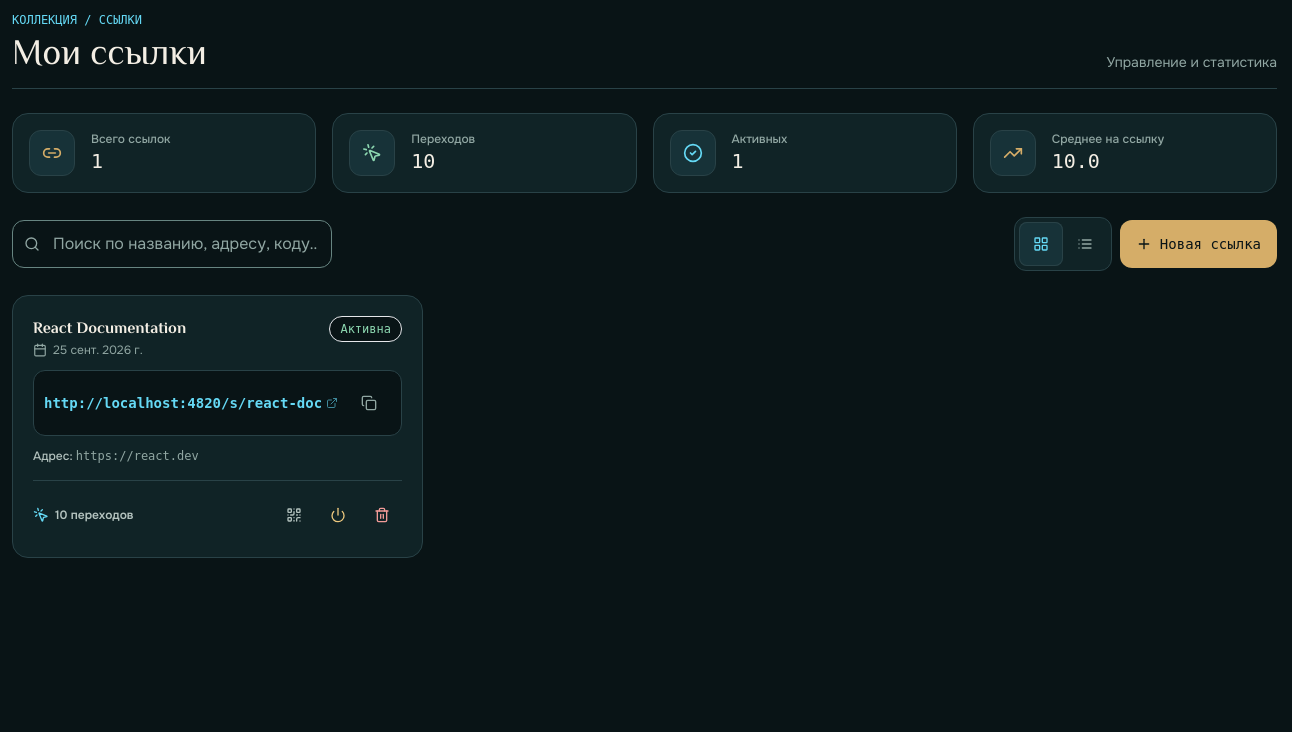
Test: LinkList › switches between grid and table view
Check: the heading "React Documentation" is shown, box x1=33 y1=316 x2=186 y2=340
What coordinates should you click on to do the following:
click the button named "показать таблицу"
I would click on:
 (1085, 244)
Its box is x1=1063 y1=222 x2=1107 y2=266.
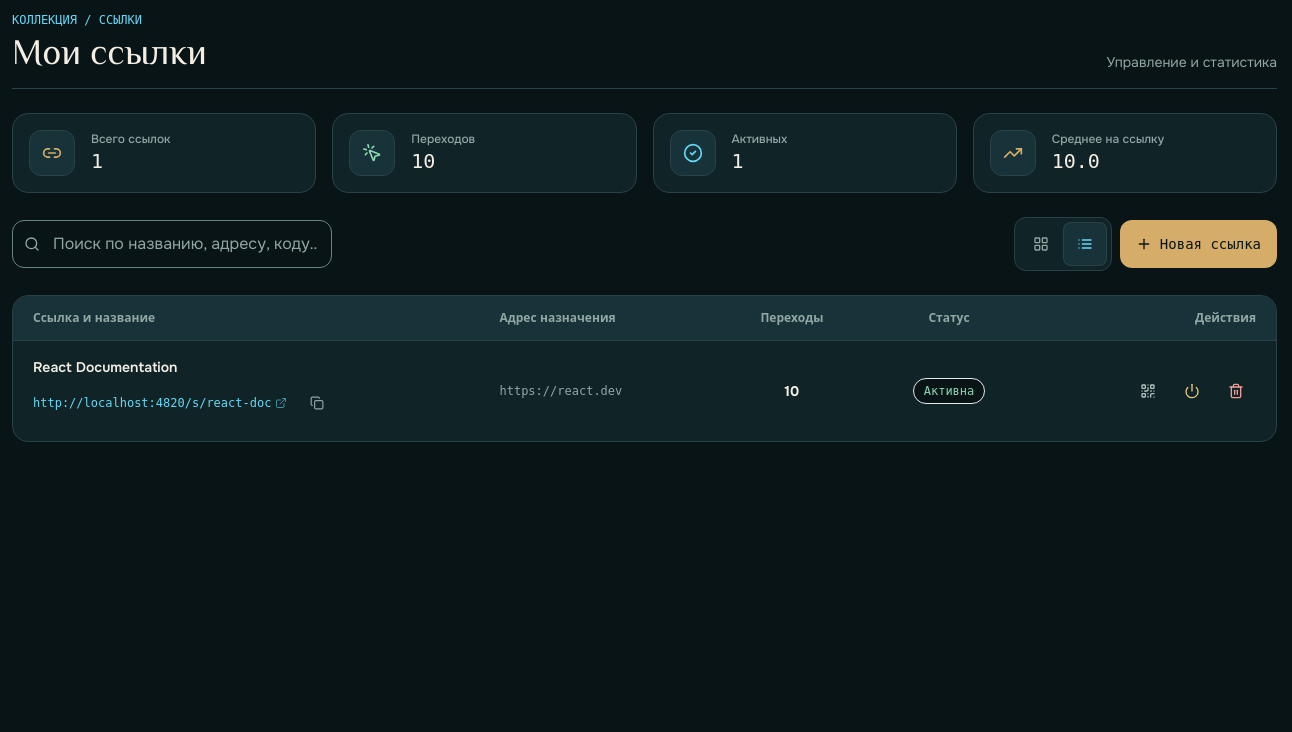
Check: the column heading "Ссылка и название" is shown, box x1=13 y1=296 x2=480 y2=340
